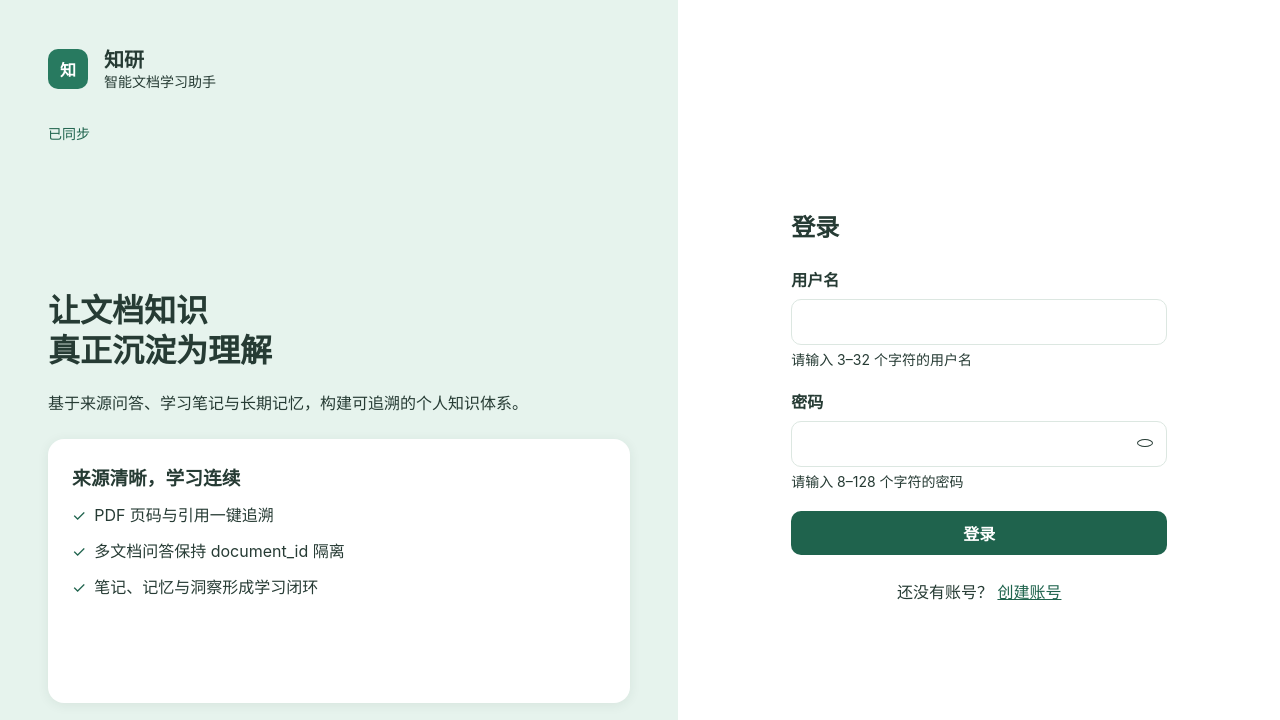
AuthProvider › shows an invalid-credentials banner and field guidance
The image size is (1280, 720).
Type "reader" into the field labelled "用户名" at (979,322), box x1=791 y1=299 x2=1167 y2=345
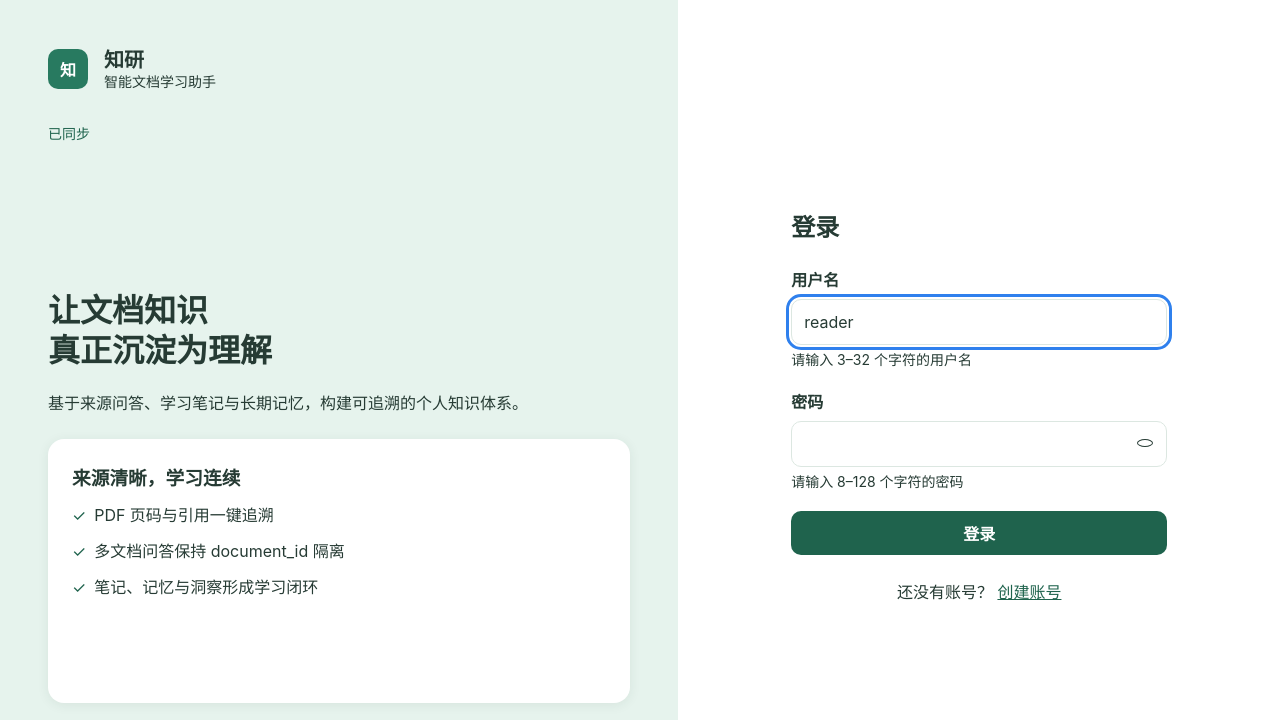
Type "wrong password" into the password field labelled "密码" at (979,444), box x1=791 y1=421 x2=1167 y2=467
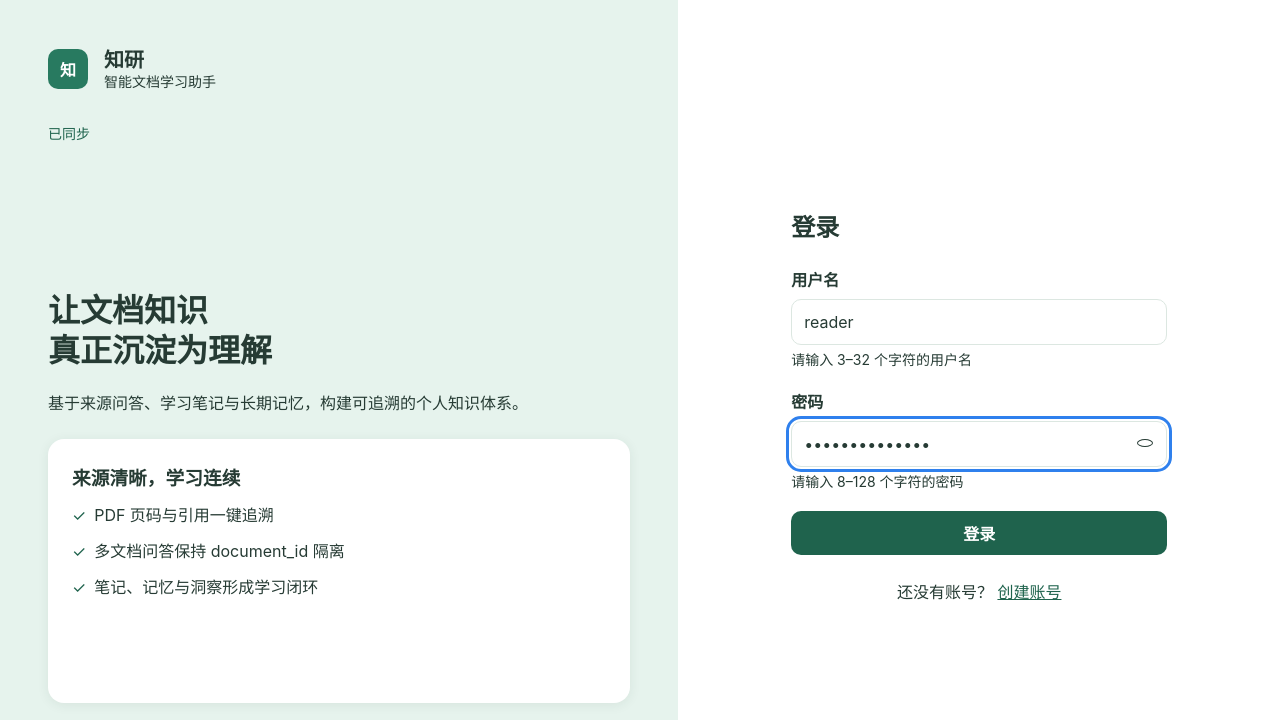
Click the button "登录" at (979,533), box x1=791 y1=511 x2=1167 y2=555
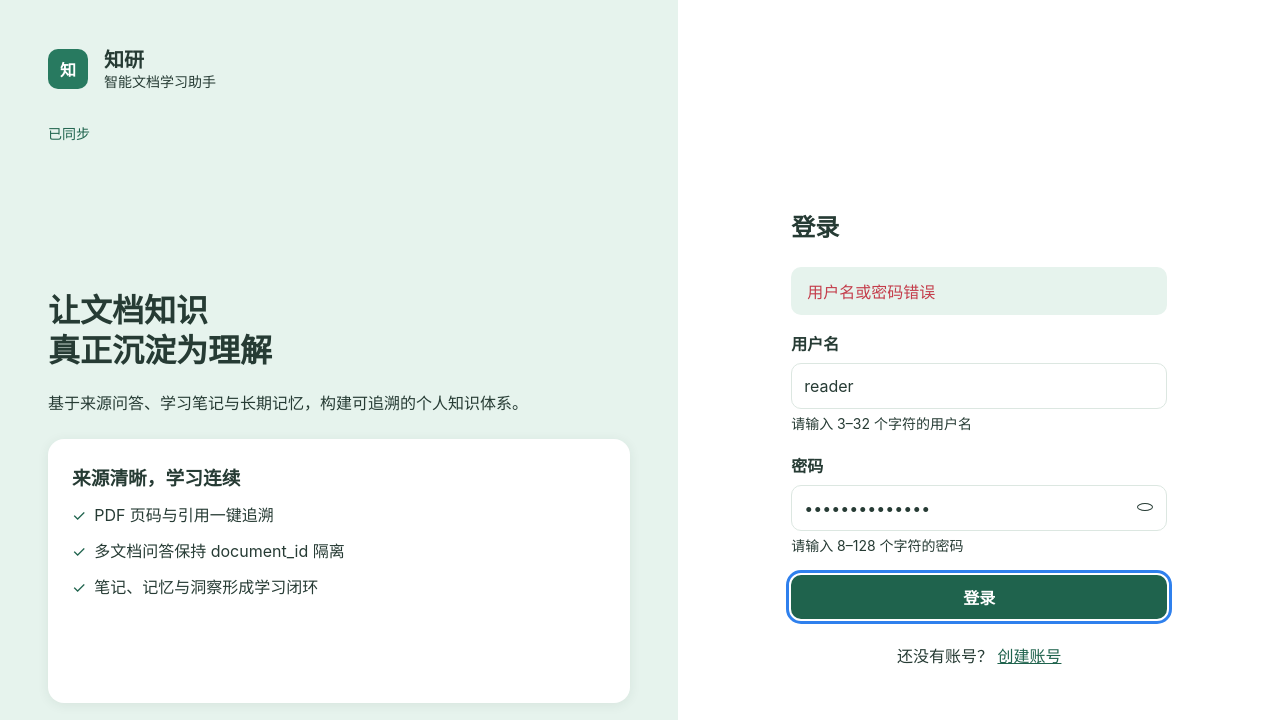
Expected: the message reads "用户名或密码错误", x1=807 y1=282 x2=935 y2=302
